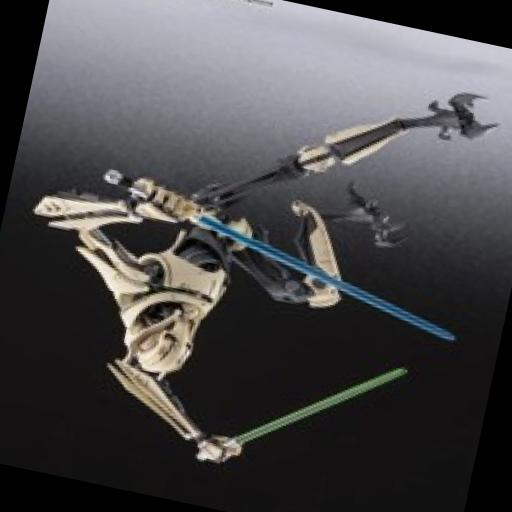lightsaber: (82, 158, 480, 346), (196, 328, 413, 503)
